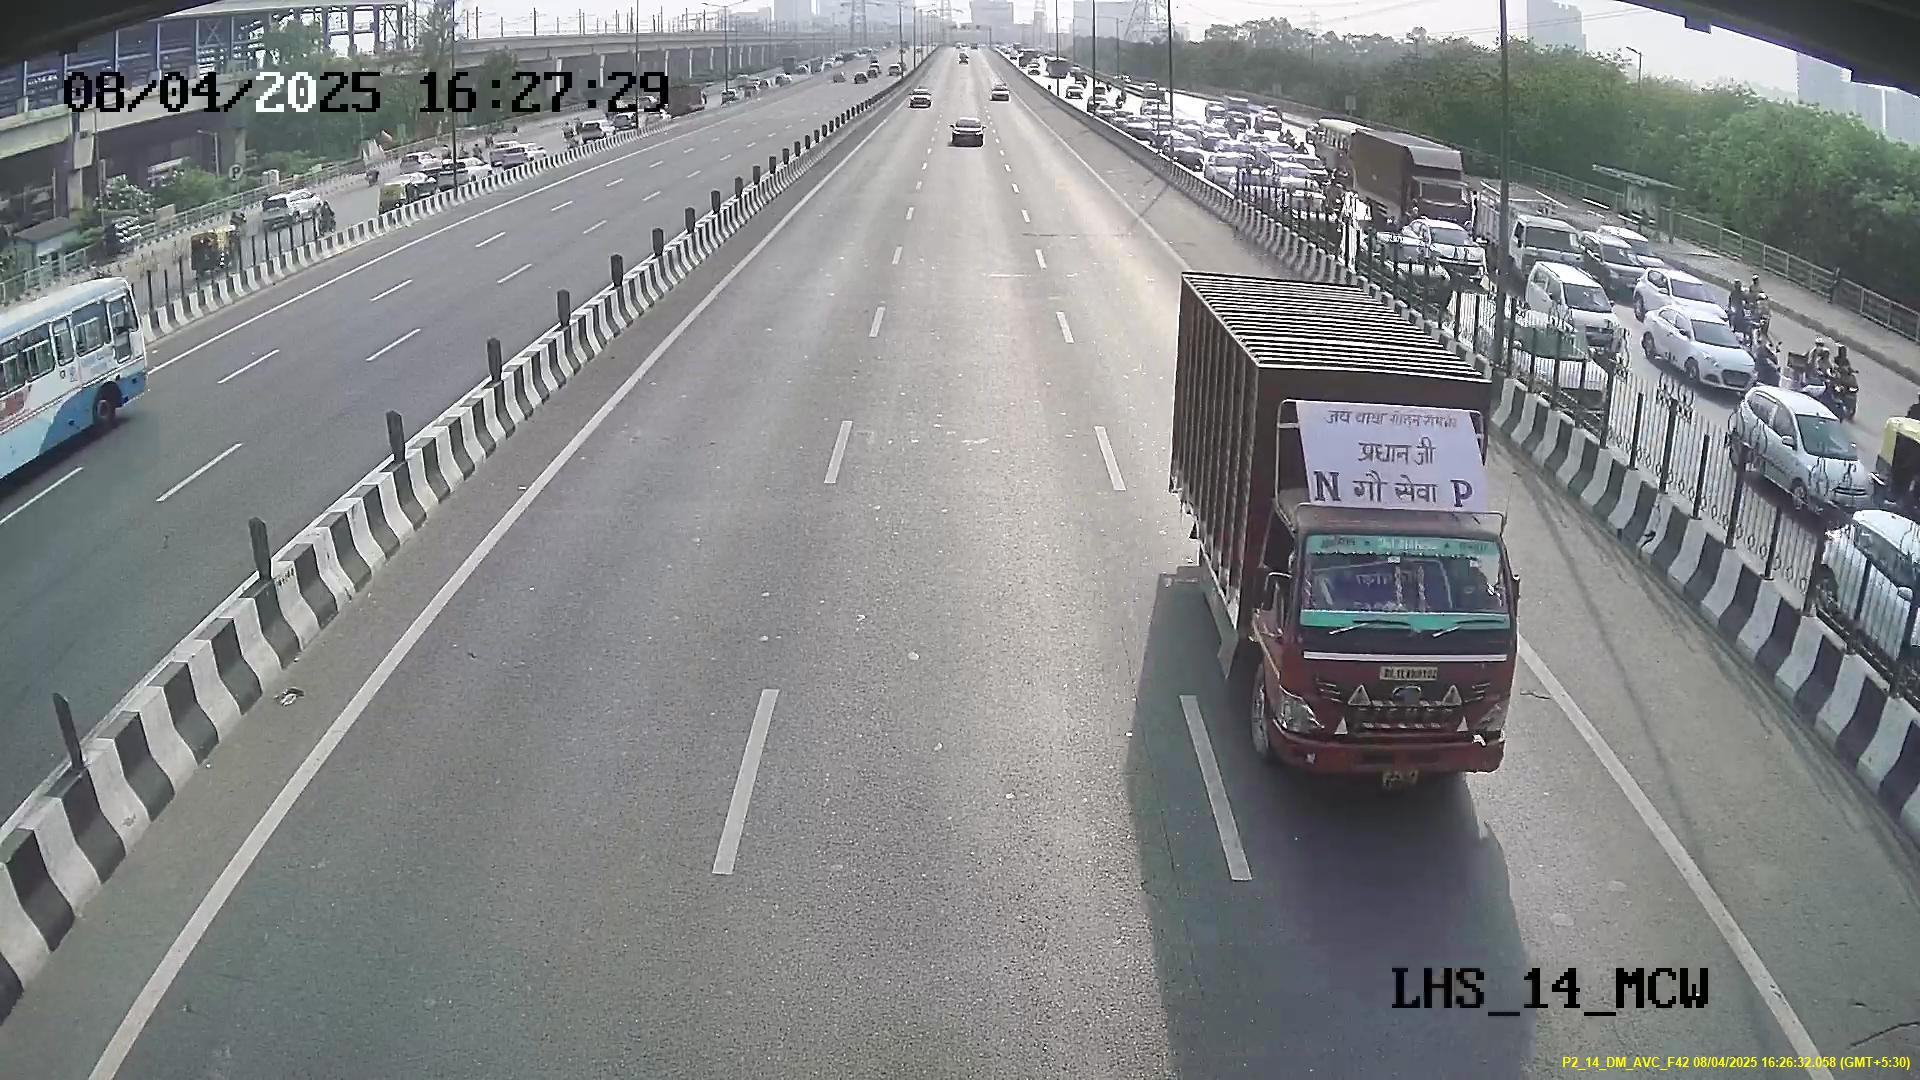lcv: (1262, 512, 1530, 786)
